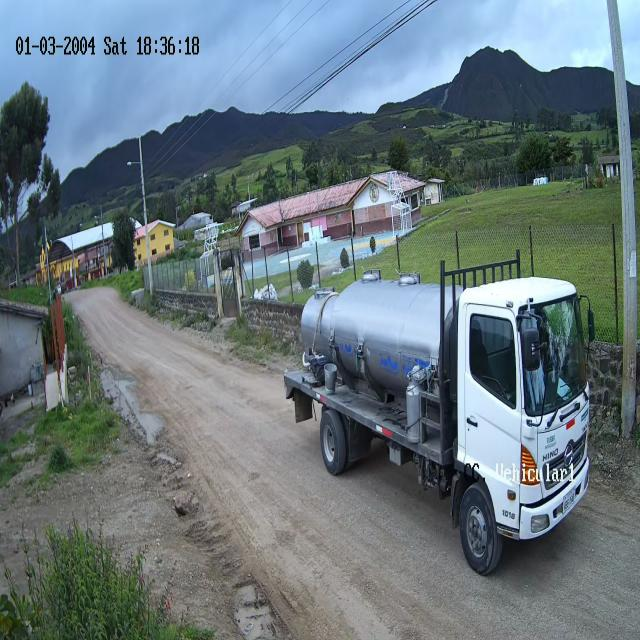TRUCK: (284, 277, 593, 575)
